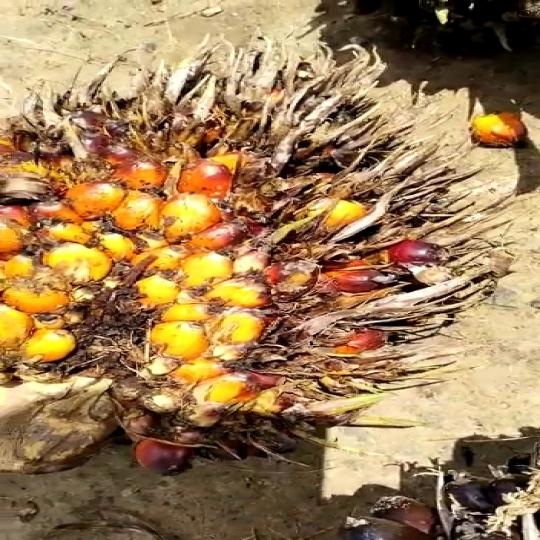terlalu masak: (0, 26, 517, 496)
